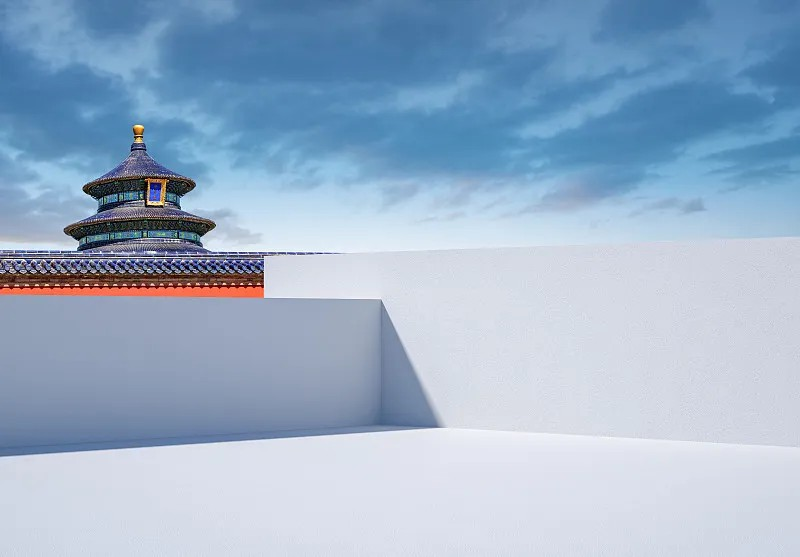Heaven: (63, 121, 215, 254)
